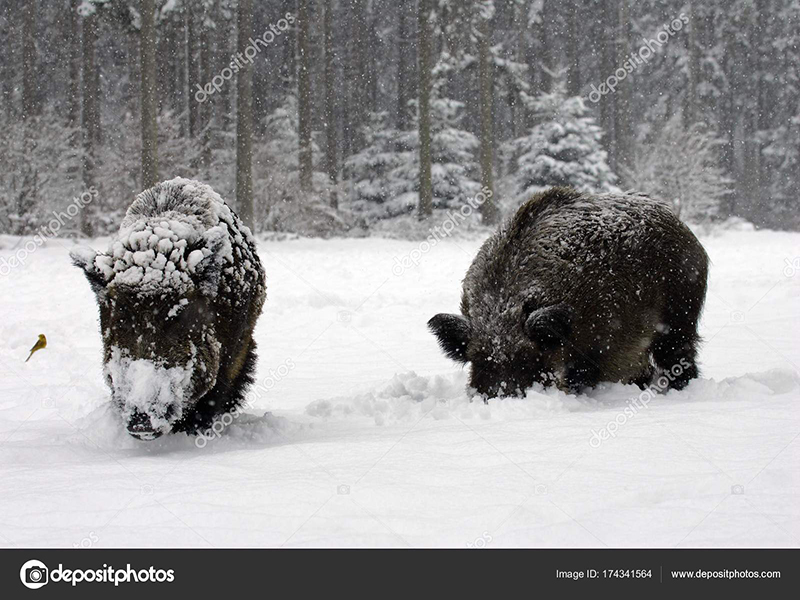cinghiale: (434, 185, 715, 396), (95, 174, 265, 457)
